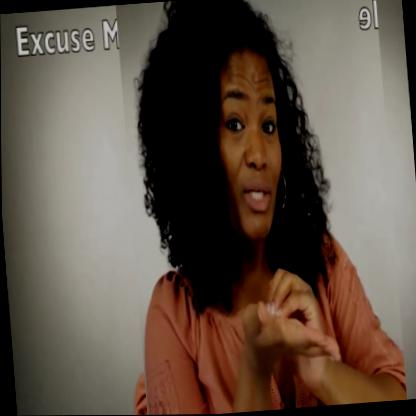ExcuseMe: (116, 0, 406, 415)
